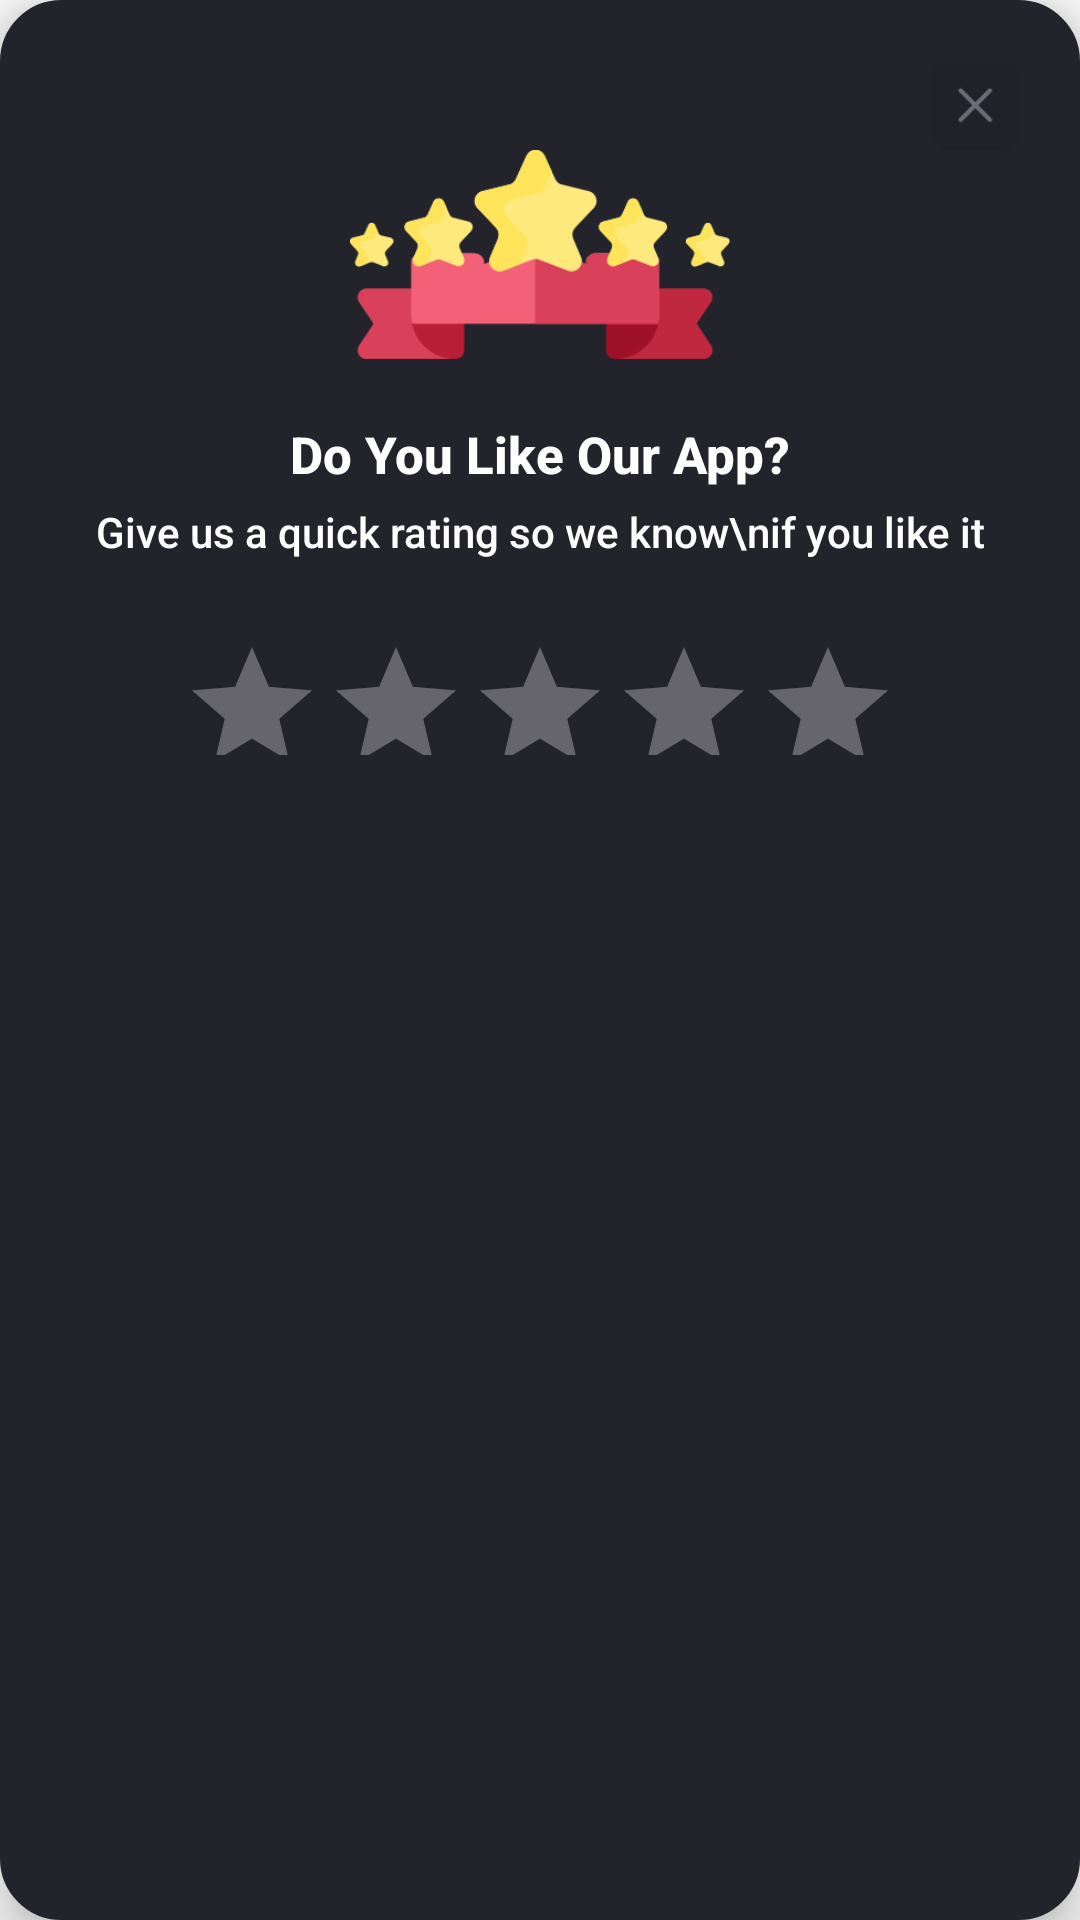

Icon bounding boxes for this 1080px x 1920px phone screenshot, format box(x1, y1, x2, y2):
popup close: box(958, 88, 992, 122)
